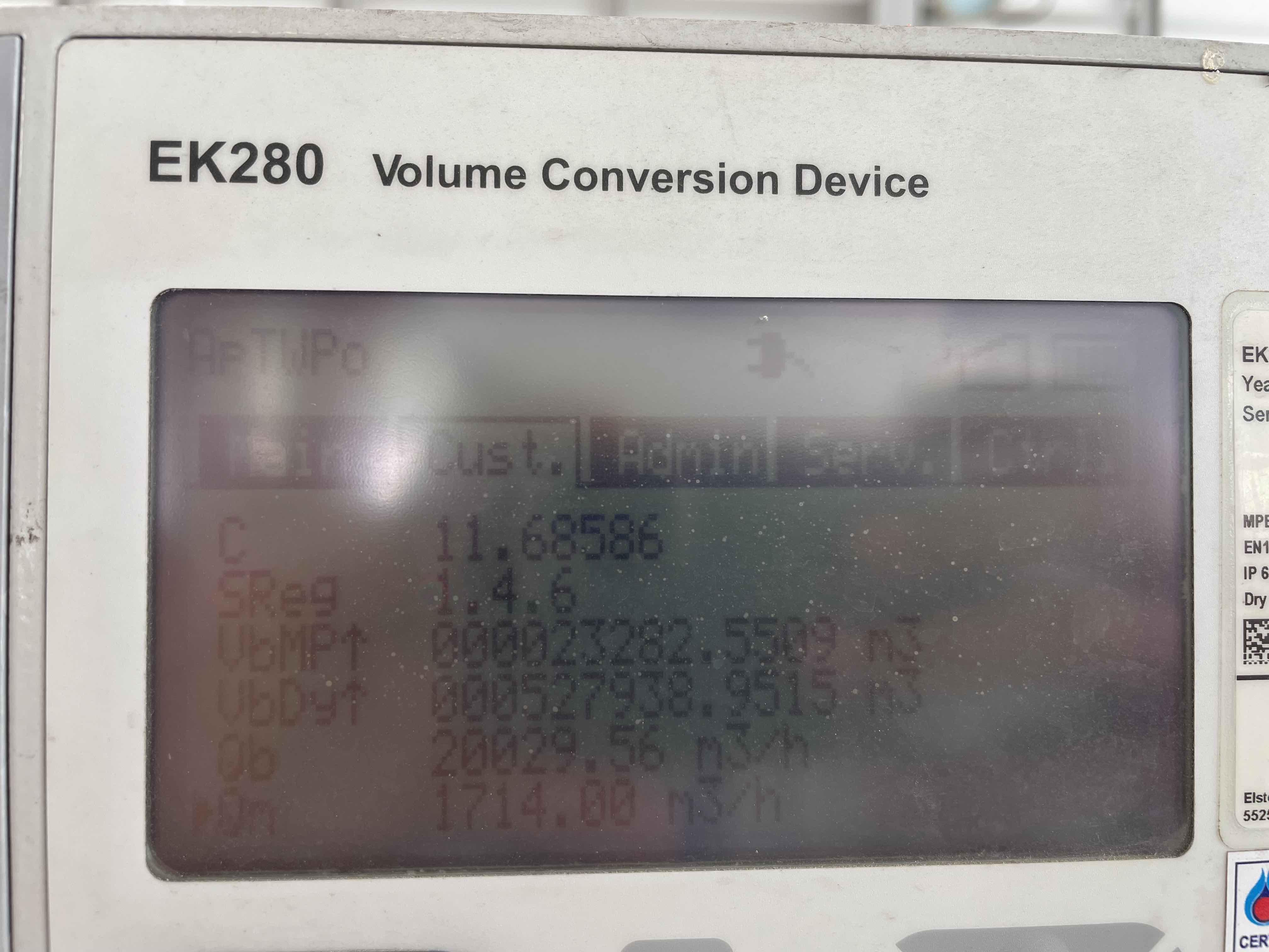digital_screen: (153, 295, 1193, 882)
